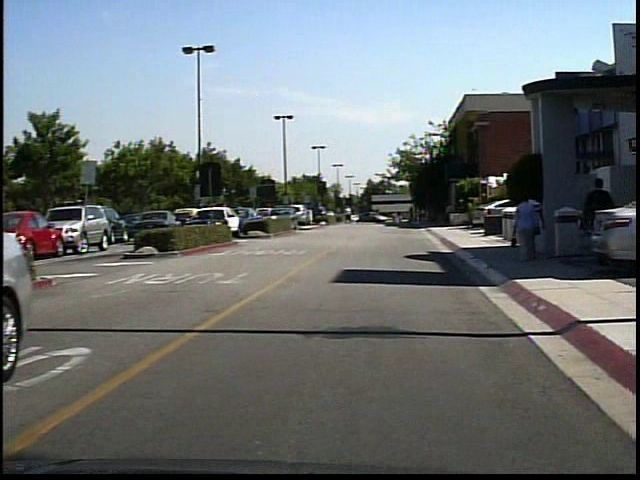person: (586, 171, 623, 266), (519, 190, 548, 266), (533, 189, 553, 262), (349, 203, 359, 227)
